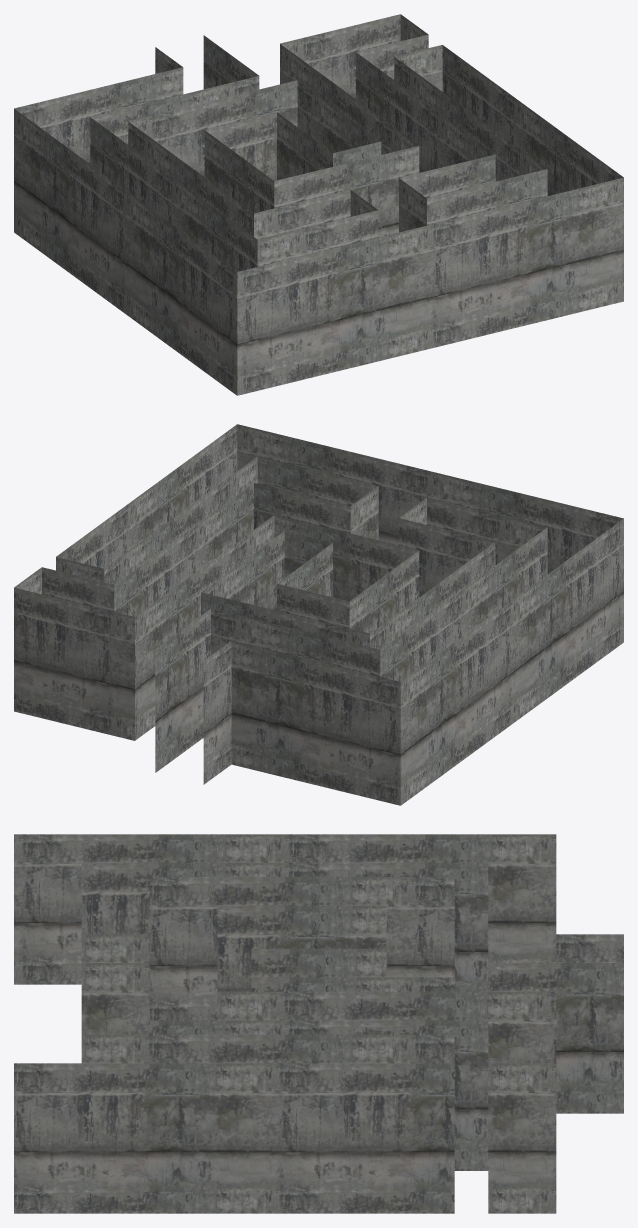
Rendered from north_none_1.obj.
3 views of the same model, one above another, from view 1: azimuth 30°, elevation 25°; view 2: azimuth 150°, elevation 25°; view 3: azimuth 270°, elevation 25° (orthographic). The views are drawn at different scales.
Parts seen in each view (by area): view 1: Room; view 2: Room; view 3: Room.
Boxes of the visible parts, x1=… form: Room: x1=14, y1=14, x2=623, y2=395; Room: x1=14, y1=424, x2=623, y2=805; Room: x1=14, y1=834, x2=623, y2=1213.
Size of the model in its own units: 8 by 2.45 by 9.
Materials: 1 (1 with a texture image).
